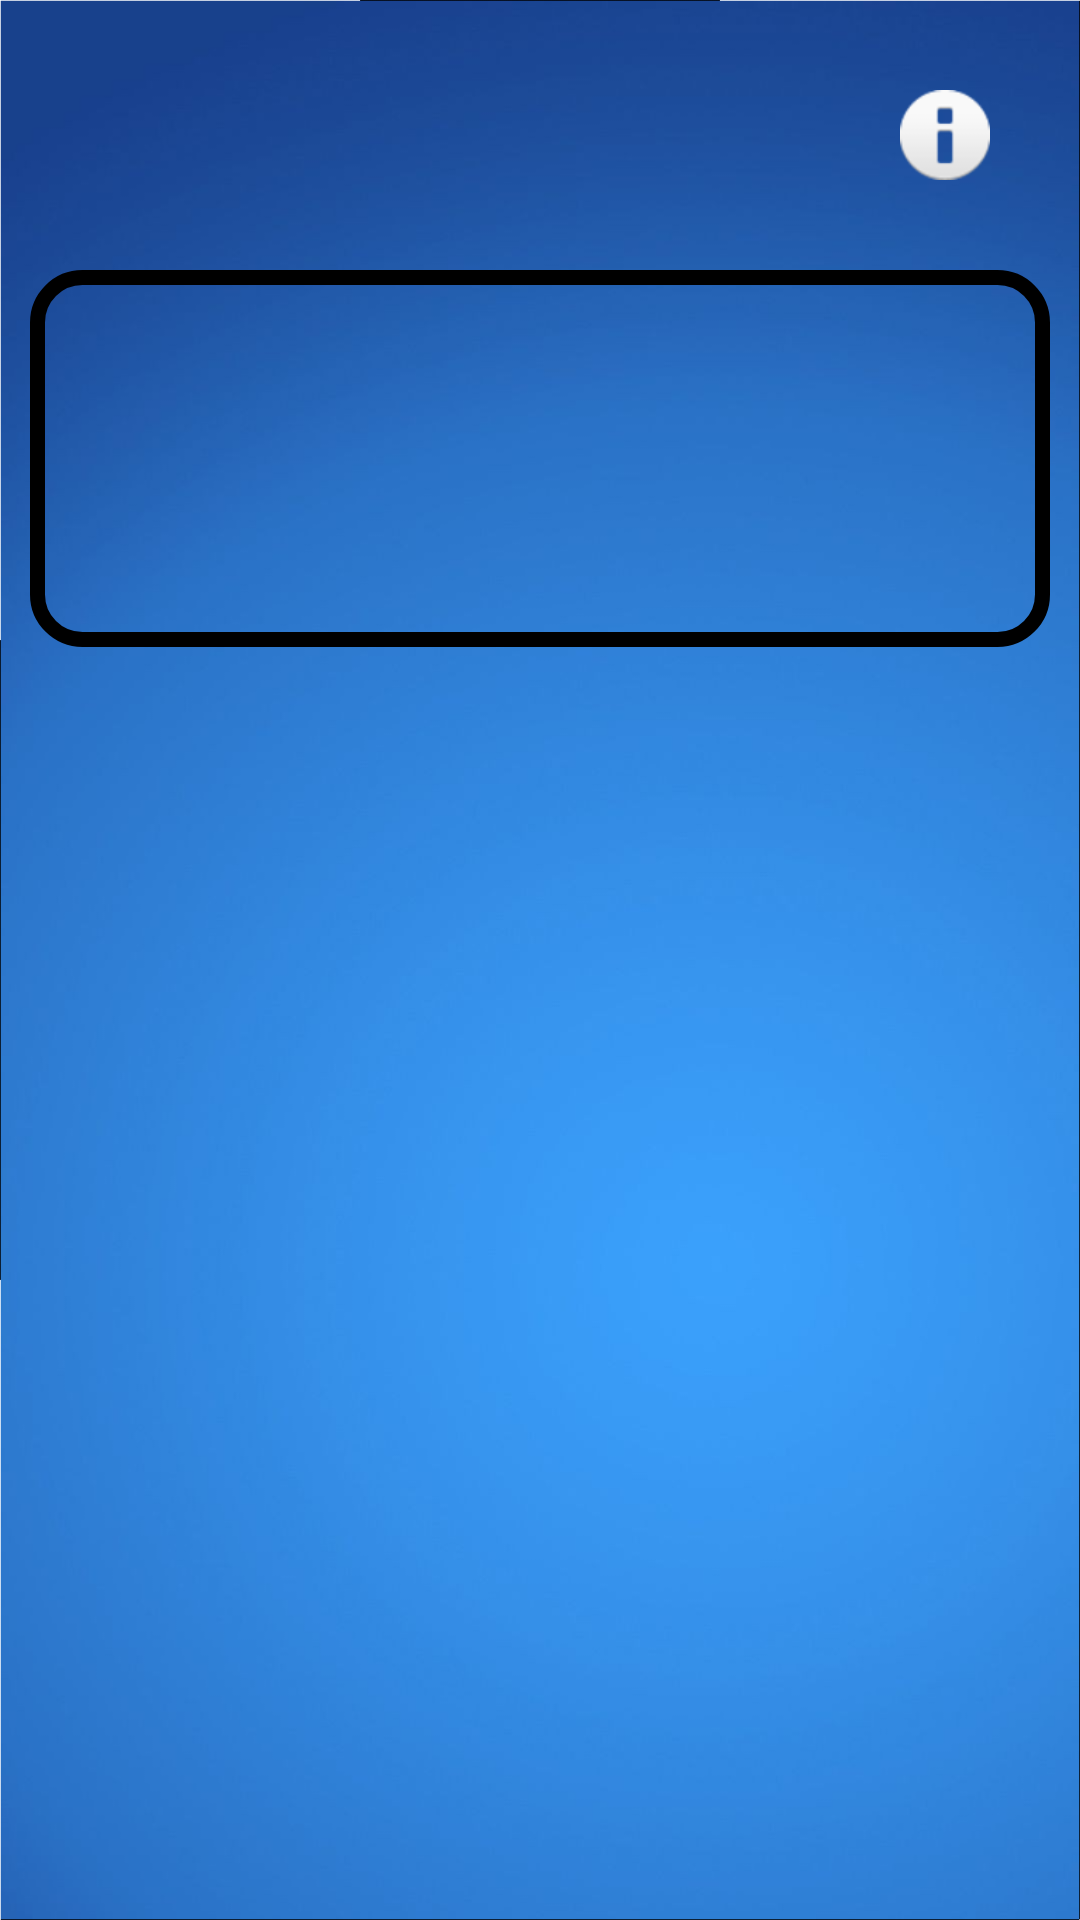

Where icons sit on this 1080 × 1920 app screen, as (x1, y1, x2, y2):
info: (900, 90, 990, 180)
